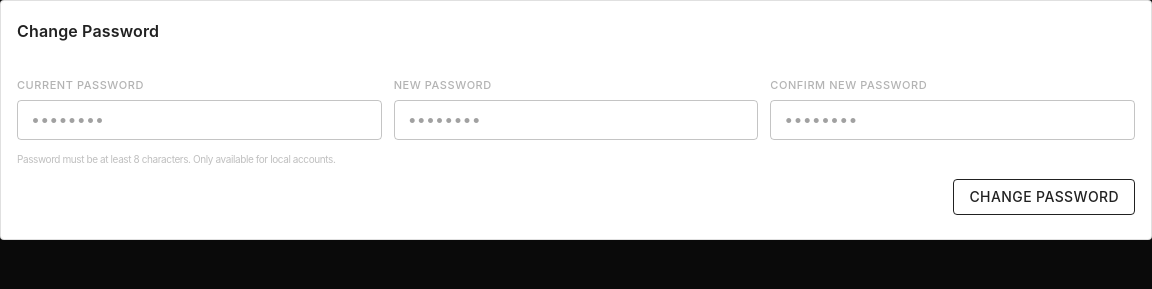
Scenario: ChangePasswordSection — validation › shows error when passwords do not match
Type "currentPass" into the password field with placeholder "••••••••" below "Current Password".
click(199, 120); type("currentPass")  # box [17,100,382,140]
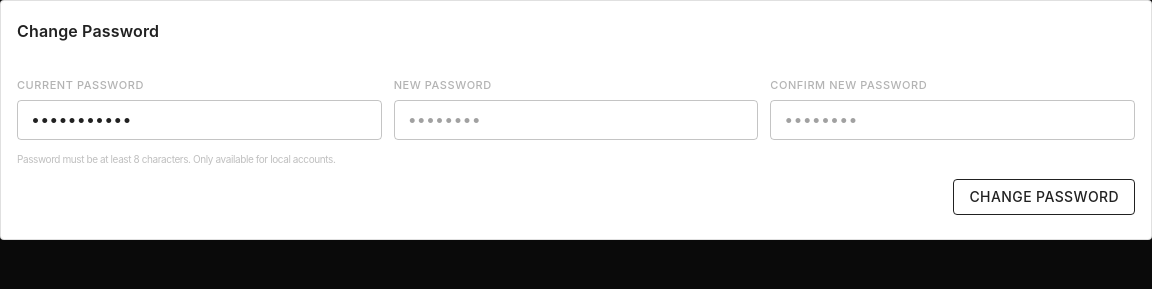
Type "NewPass1!" into the 1st password field with placeholder "••••••••".
click(576, 120); type("NewPass1!")  # box [394,100,758,140]
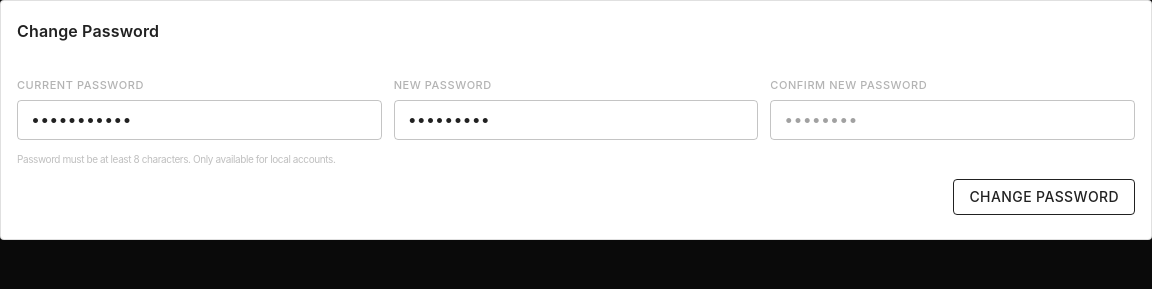
Type "DifferentPass1!" into the password field with placeholder "••••••••".
click(953, 120); type("DifferentPass1!")  # box [770,100,1135,140]
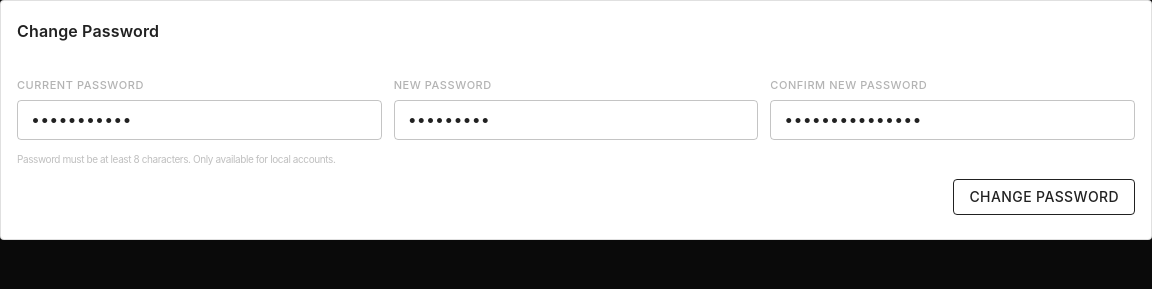
Click the button "Change Password".
click(1044, 197)  # box [954,178,1135,215]
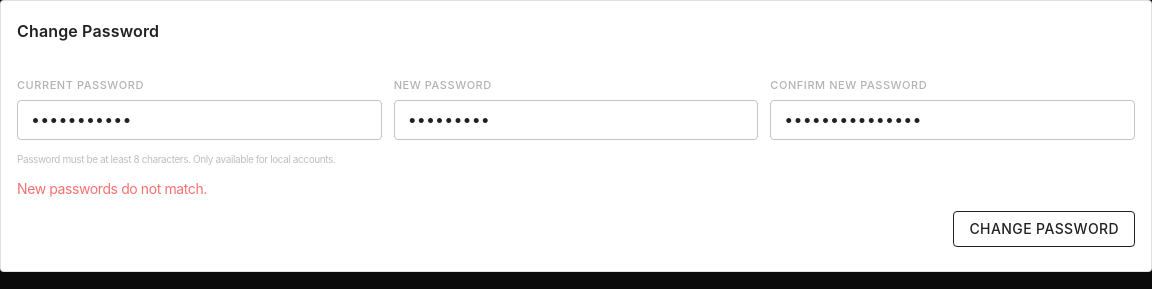
expect the text "New passwords do not match." is shown: met, box [17,180,207,196]
